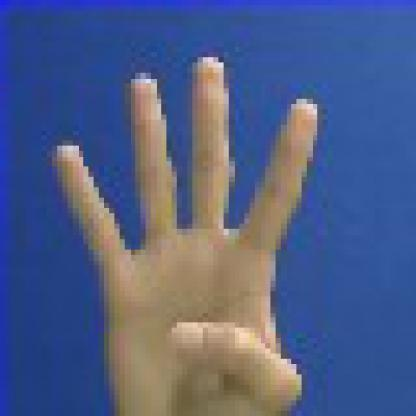four: (36, 52, 333, 411)
